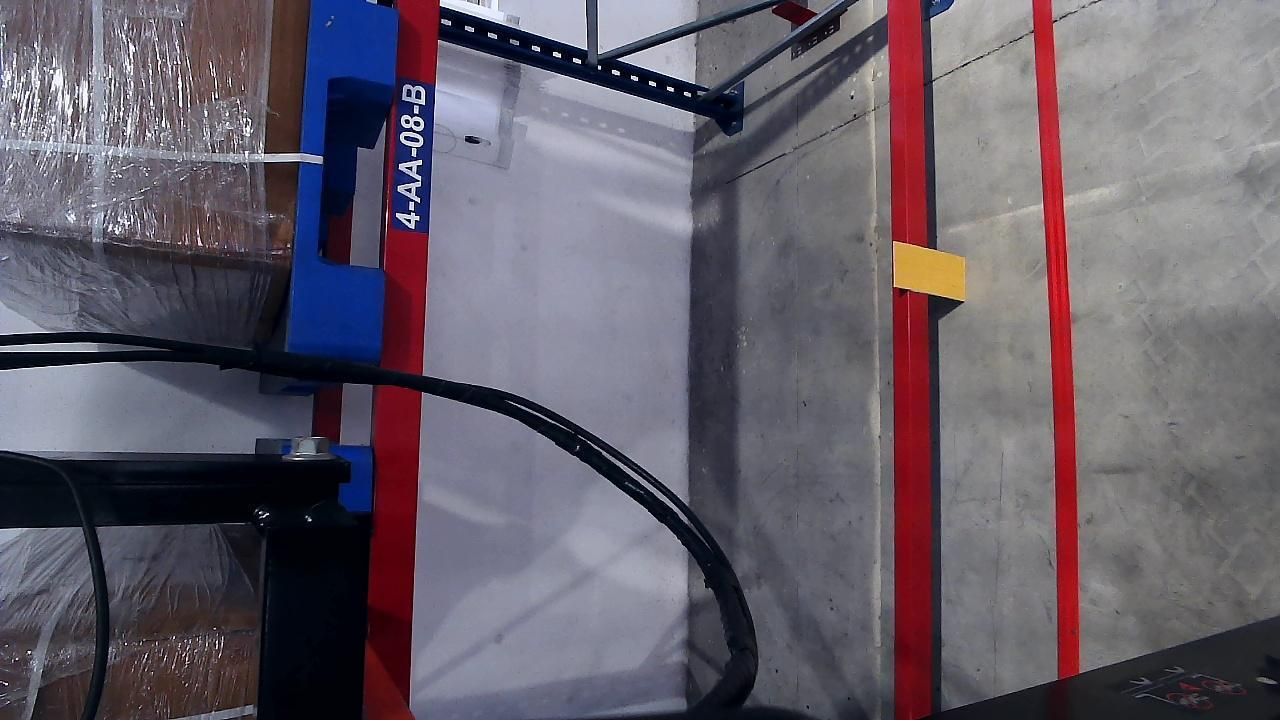red_line: (1030, 7, 1078, 669)
